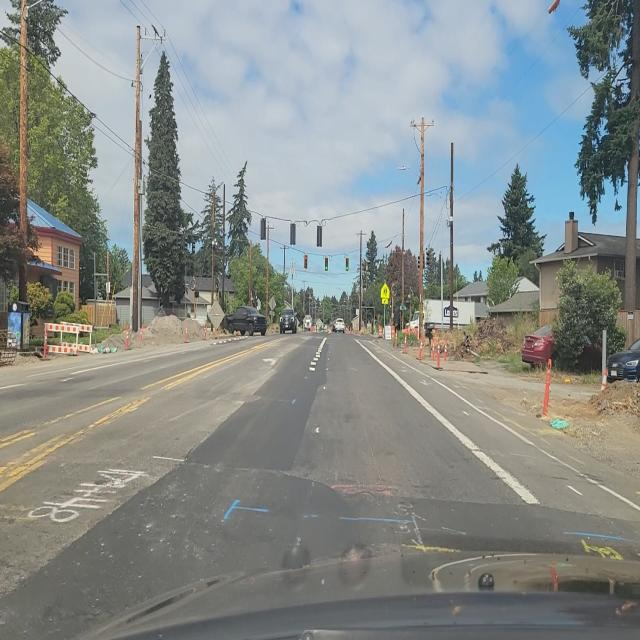car: (605, 332, 640, 385), (520, 324, 556, 369), (224, 306, 266, 336), (279, 309, 298, 335), (333, 318, 345, 334), (304, 316, 312, 332)
crosswalk-sign: (380, 283, 390, 304)
delineator: (542, 358, 552, 418), (599, 368, 609, 392), (42, 326, 48, 358), (436, 342, 441, 369), (125, 326, 130, 350), (403, 328, 408, 352), (443, 340, 448, 362), (418, 338, 423, 360), (431, 339, 435, 362), (139, 324, 144, 342), (394, 327, 398, 348), (184, 324, 188, 342), (203, 323, 207, 340), (212, 325, 216, 339), (141, 322, 144, 333)
